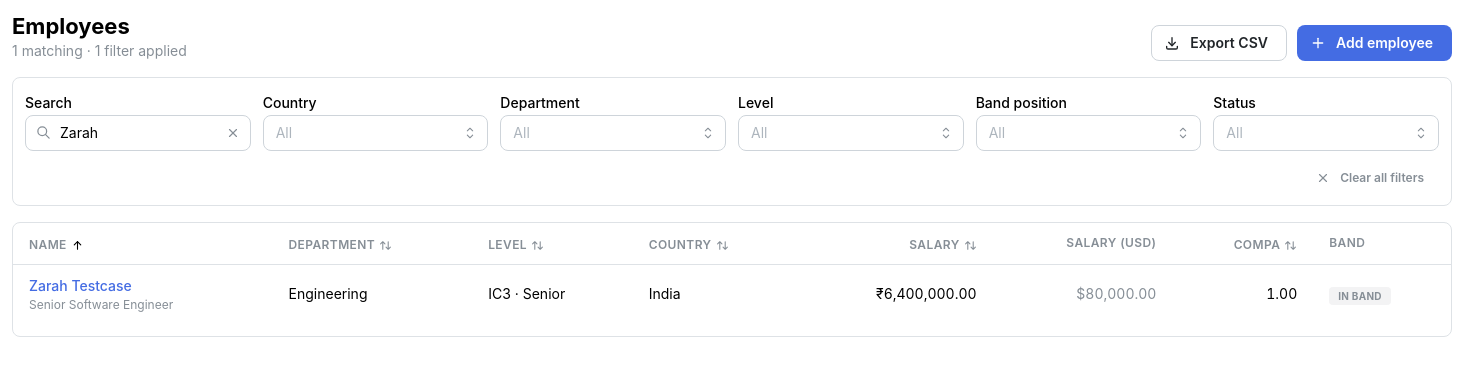
Test case: typing in the search box › clearing the box restores the full list
The width and height of the screenshot is (1464, 371).
Expected: the link "Zarah Testcase" is shown, [29, 277, 132, 294]
Clear the field labelled "Search": x=138, y=133 [25, 115, 251, 151]
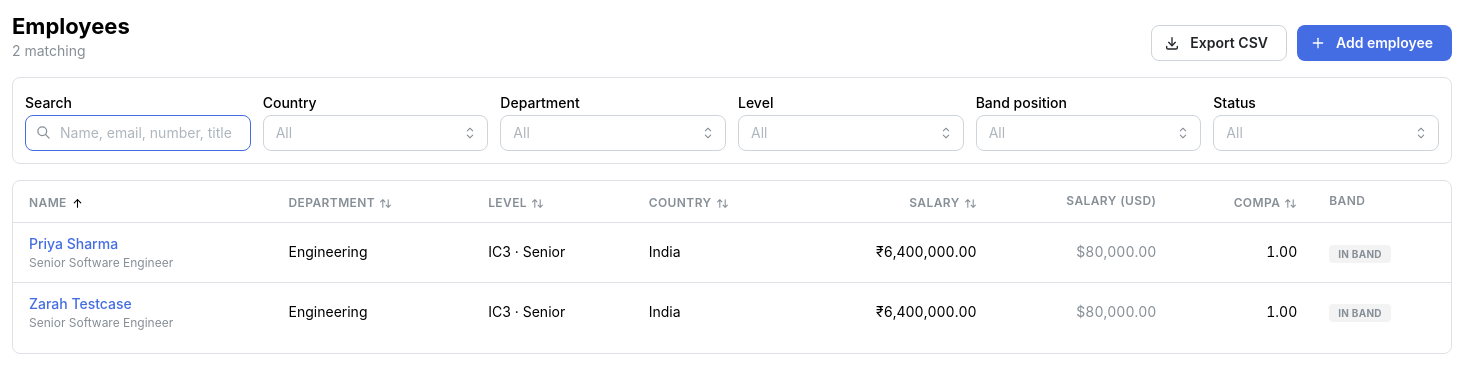
Now the link "Priya Sharma" is shown, box [29, 235, 118, 252]
